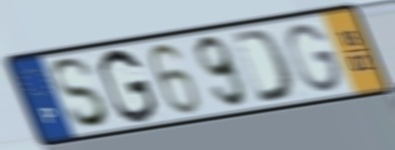6: (148, 40, 204, 117)
9: (193, 33, 250, 110)
D: (228, 26, 299, 106)
G: (96, 47, 160, 127), (284, 22, 346, 95)
S: (50, 55, 114, 132)
